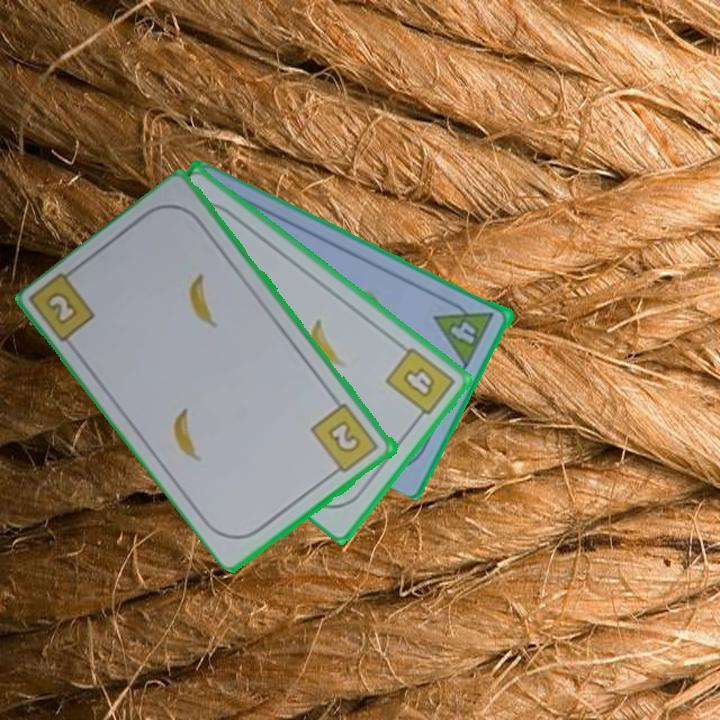2b: (308, 400, 382, 479), (45, 291, 78, 325)
4b: (382, 343, 458, 425)
4p: (431, 293, 498, 369)
